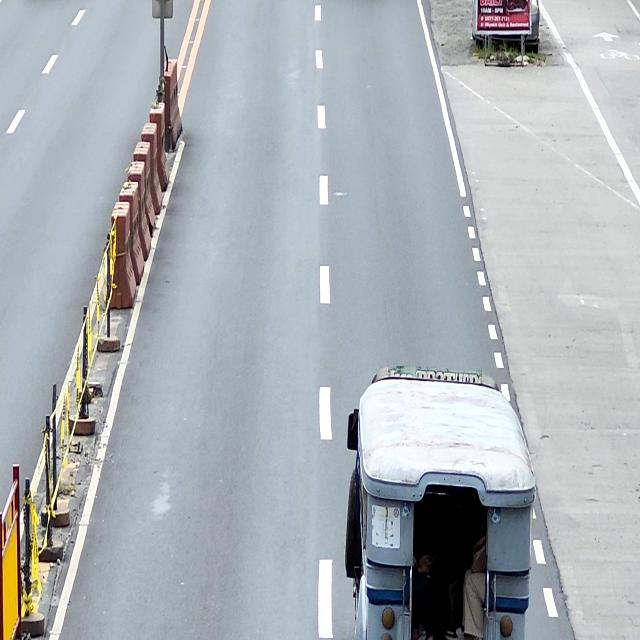Jeep: (344, 368, 535, 640)
